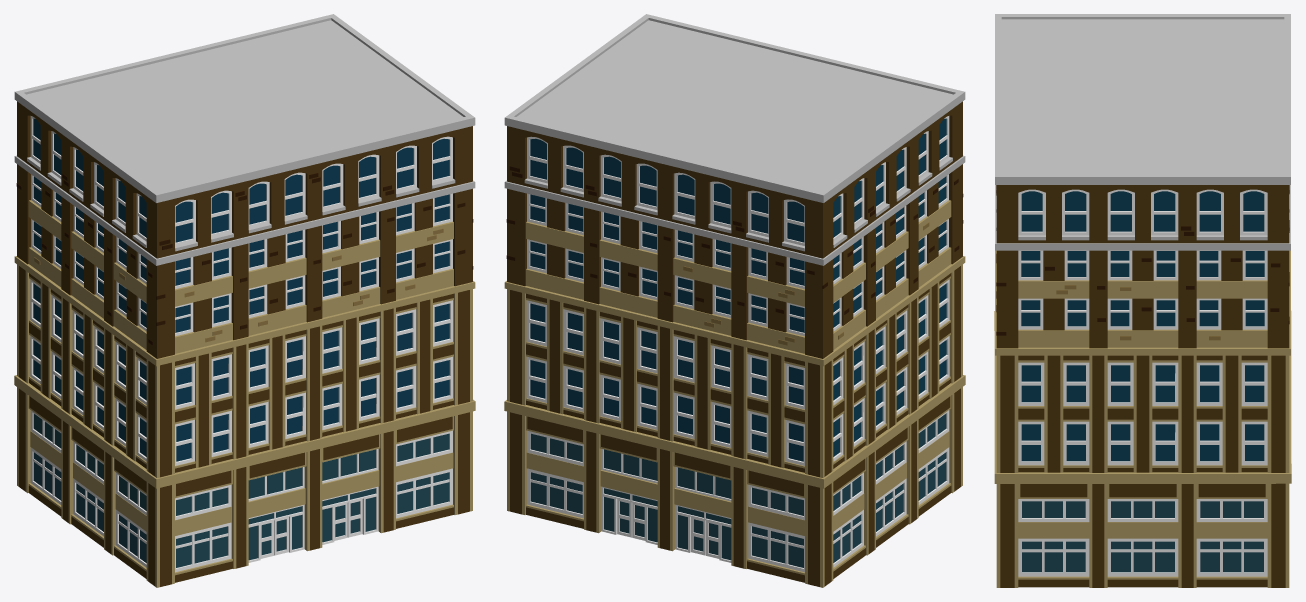
The model's file is NeoClassical-03.fbx.
The picture shows the model from 3 angles, left to right: view 1: azimuth 30°, elevation 25°; view 2: azimuth 150°, elevation 25°; view 3: azimuth 270°, elevation 25°; orthographic projection. The views are drawn at different scales.
Parts seen in each view (by area): view 1: Building; view 2: Building; view 3: Building.
Boxes of the visible parts, x1,y1,x2,y2 form: Building: (14, 14, 475, 587); Building: (504, 14, 965, 587); Building: (994, 14, 1291, 587).
Size of what is drawn, in the model's own units: 21.33 by 25.1 by 16.41.
